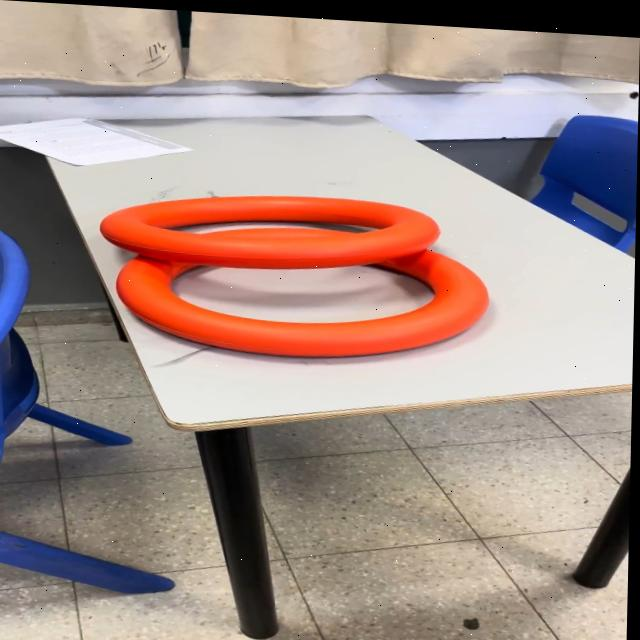note: (115, 214, 495, 362), (98, 181, 447, 276)
